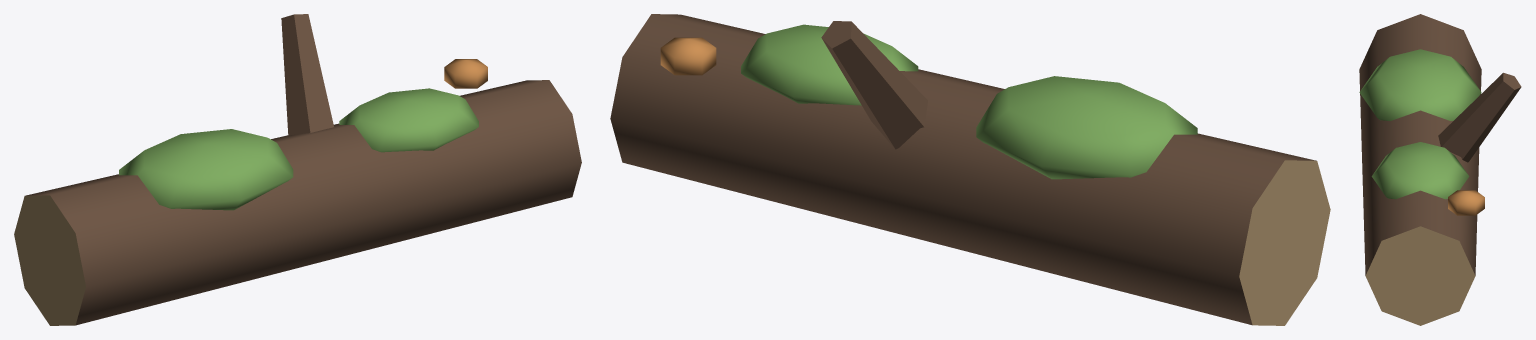
The model's file is log.glb.
The picture shows the model from 3 angles, left to right: view 1: azimuth 30°, elevation 25°; view 2: azimuth 150°, elevation 25°; view 3: azimuth 270°, elevation 25°; orthographic projection. The views are drawn at different scales.
Parts seen in each view (by area): view 1: body; view 2: body; view 3: body.
Boxes of the visible parts, <box> form: body: <box>14,14,581,325</box>; body: <box>610,14,1330,325</box>; body: <box>1359,14,1521,325</box>.
Size of the model in its own units: 1.6 by 0.6257 by 0.5306.
